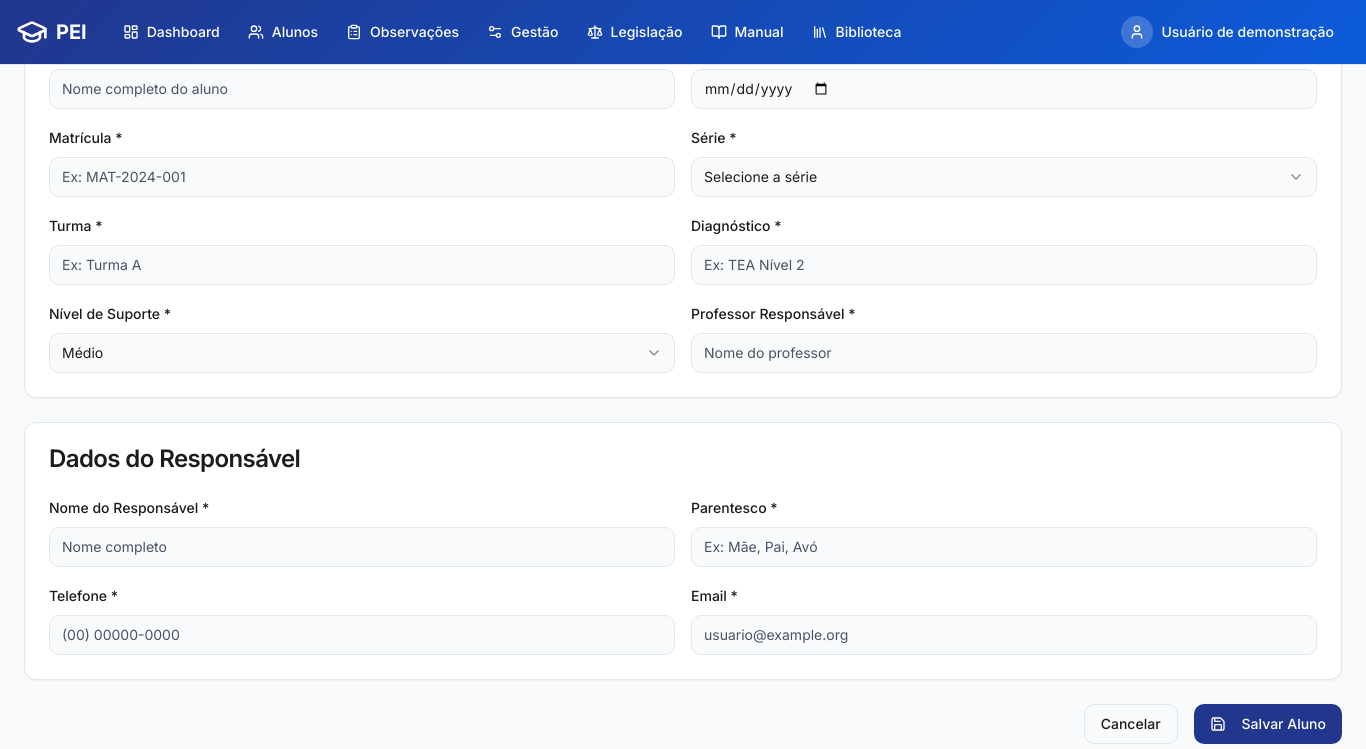
cadastro de aluno › CONTROLE: formulário vazio não cadastra e não navega
The image size is (1366, 749).
(page scrolled)
Click the button "Salvar Aluno".
click(1268, 724)  # box [1194, 704, 1342, 744]
(page scrolled)
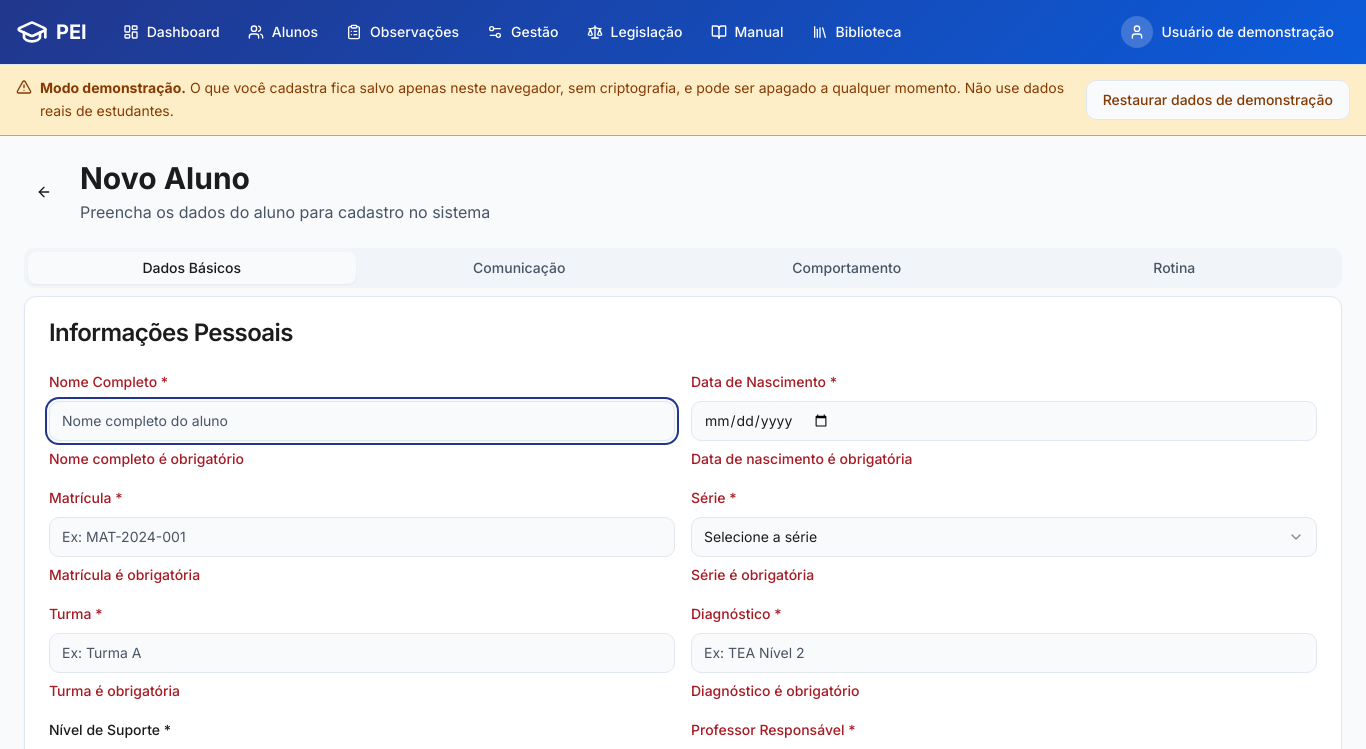
Expected: the heading "Novo Aluno" is shown, [80, 160, 250, 196]
Now the text "Nome completo é obrigatório" is shown, box [49, 450, 244, 466]
